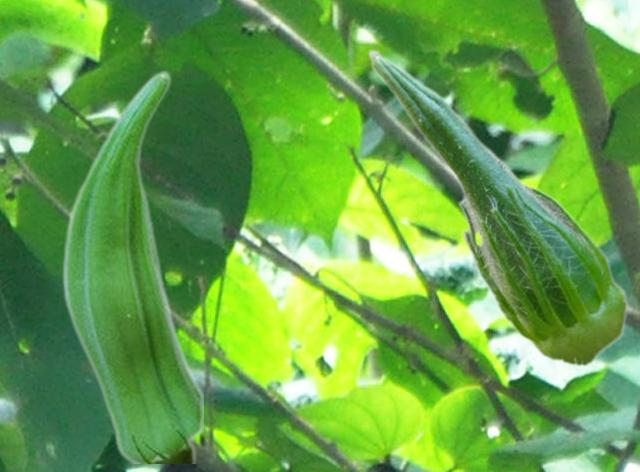okra: (367, 48, 628, 366), (61, 68, 202, 462)
